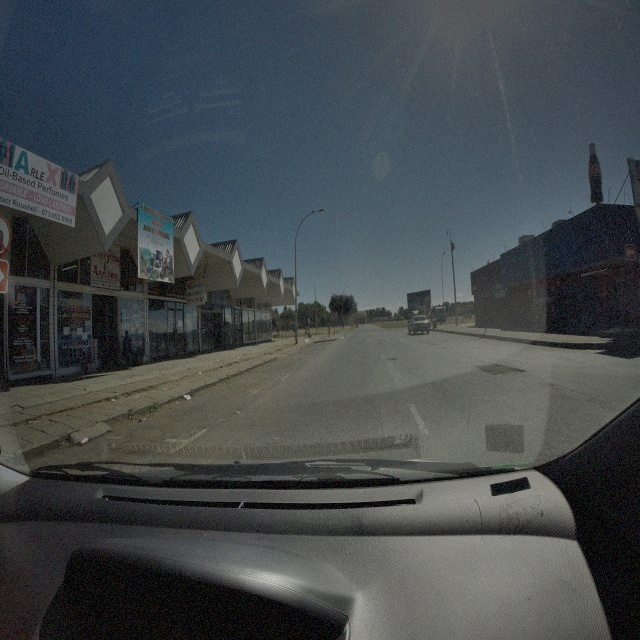pothole: (387, 356, 398, 361)
